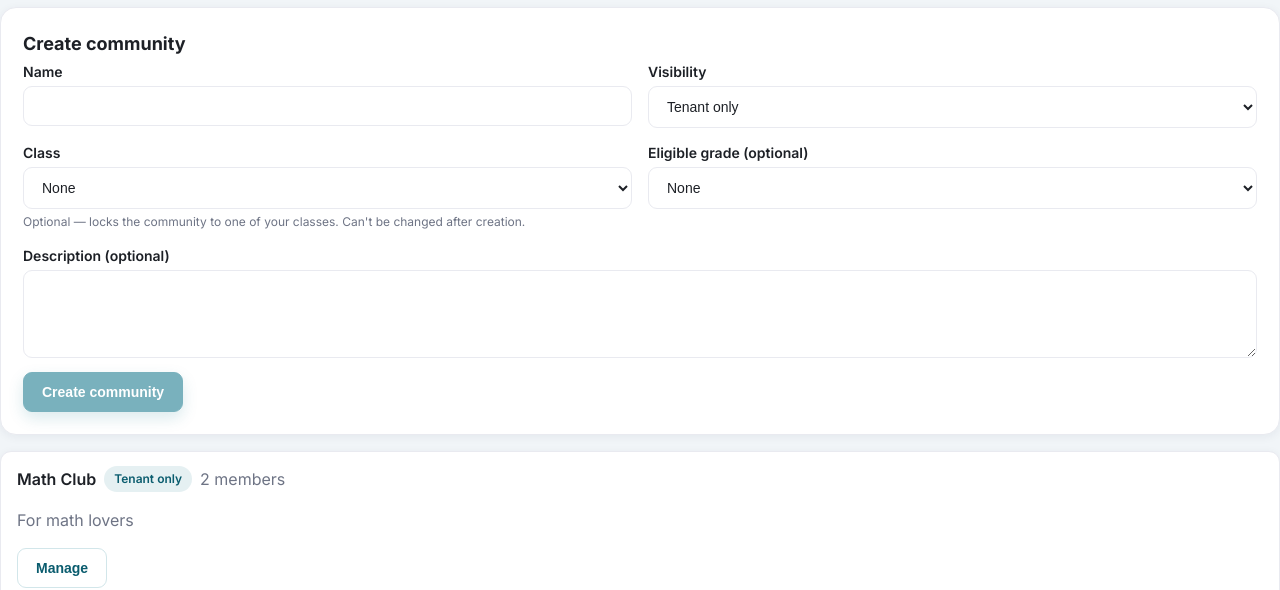
Test: TeacherCommunitiesPage › hides management actions and shows a note when the teacher is not a member of the community
Click the button "Manage".
click(62, 568)  # box [17,548,107,588]
(page scrolled)
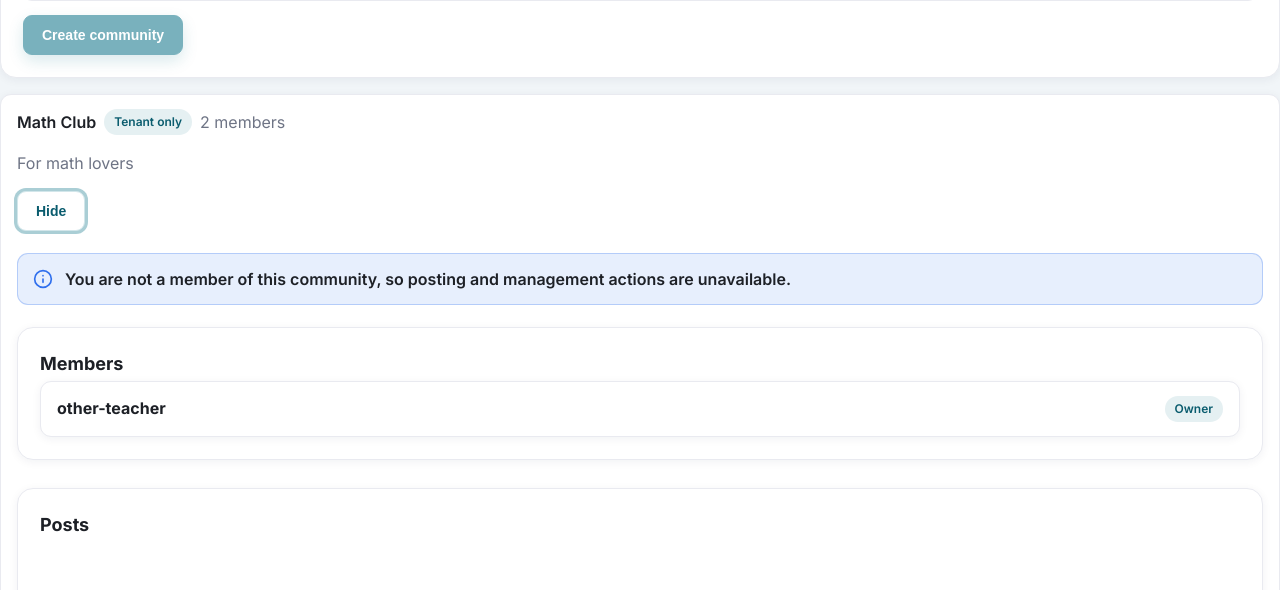
Now the text "not a member of this community" is shown, box [65,268,791,288]
